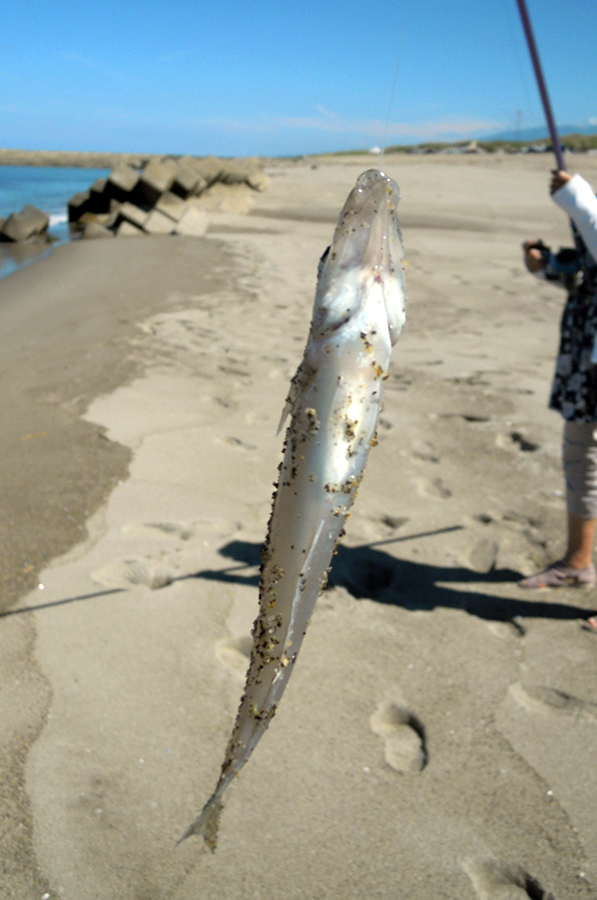kiss: (200, 170, 423, 859)
